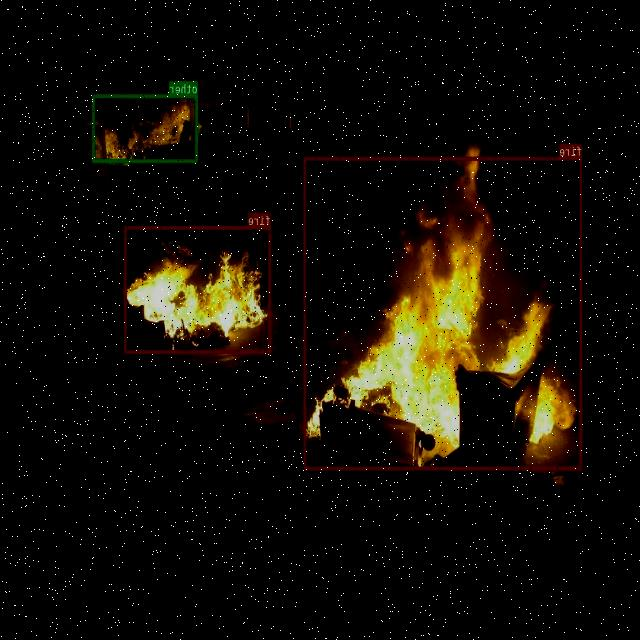fire: (304, 156, 583, 469), (125, 225, 272, 352)
